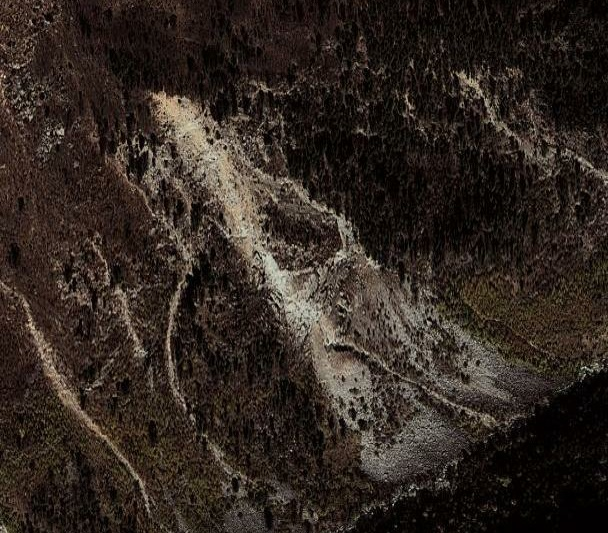slope: (147, 87, 510, 472)
